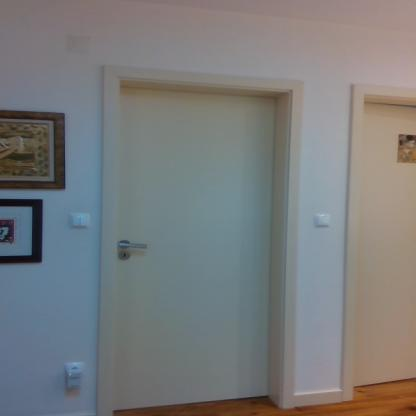closed: (81, 60, 329, 412), (331, 69, 415, 397)
